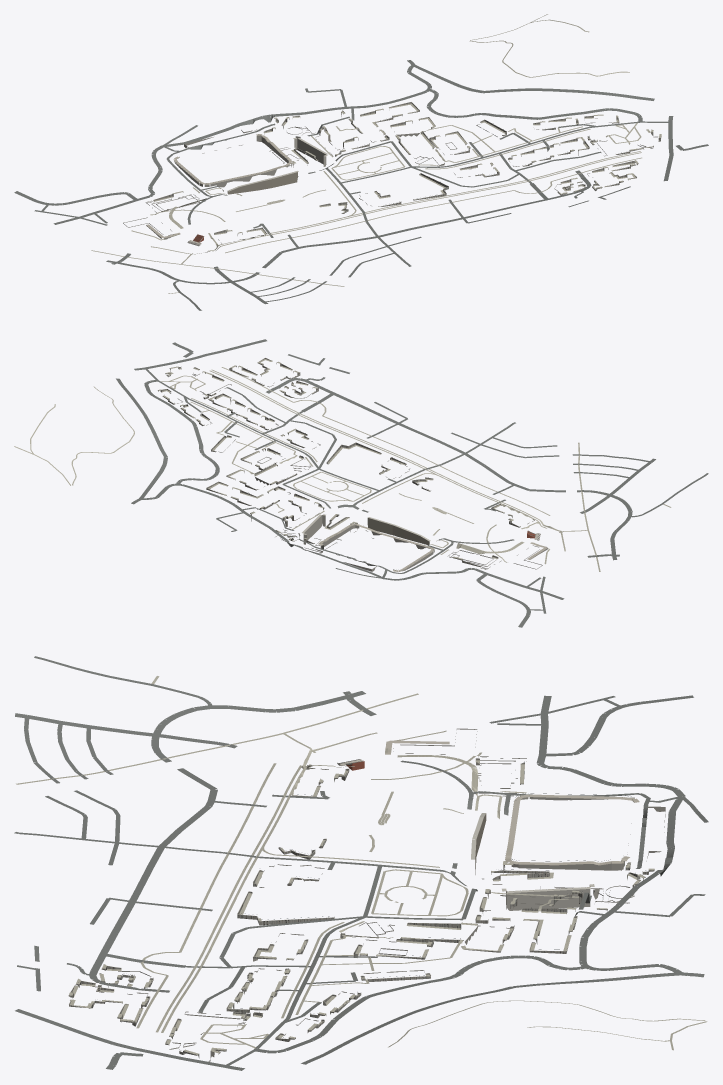
The picture shows the model from 3 angles, top to bottom: view 1: azimuth 30°, elevation 25°; view 2: azimuth 150°, elevation 25°; view 3: azimuth 270°, elevation 25°; orthographic projection. The views are drawn at different scales.
Parts seen in each view (by area): view 1: ssu-asphalt-overlay, ssu-paving-overlay, ssu-stonebank, ssu-paving, site-concrete, site, site-cap; view 2: ssu-asphalt-overlay, ssu-paving-overlay, ssu-stonebank, ssu-paving, site-concrete, site, site-cap; view 3: ssu-asphalt-overlay, ssu-paving-overlay, ssu-stonebank, ssu-paving, site-concrete, site (×2), site-cap.
Boxes of the visible parts, x1,y1,x2,y2 form: ssu-asphalt-overlay: [14, 60, 708, 310]; ssu-paving-overlay: [91, 14, 641, 293]; ssu-stonebank: [153, 102, 661, 235]; ssu-paving: [154, 103, 661, 234]; site-concrete: [123, 118, 657, 243]; site: [227, 172, 297, 194]; site-cap: [146, 134, 292, 238]; ssu-asphalt-overlay: [116, 339, 708, 627]; ssu-paving-overlay: [14, 367, 671, 571]; ssu-stonebank: [158, 358, 520, 567]; ssu-paving: [158, 359, 513, 566]; site-concrete: [168, 373, 547, 571]; site: [367, 518, 429, 544]; site-cap: [318, 523, 547, 571]; ssu-asphalt-overlay: [14, 656, 708, 1070]; ssu-paving-overlay: [16, 676, 707, 1050]; ssu-stonebank: [68, 758, 654, 1058]; ssu-paving: [69, 760, 654, 1054]; site-concrete: [92, 728, 665, 1061]; site (×2): [69, 758, 648, 1052]; site-cap: [385, 740, 639, 865].
Size of the model in its own units: 711 by 86.7 by 462.
19 materials, 4 textured.
